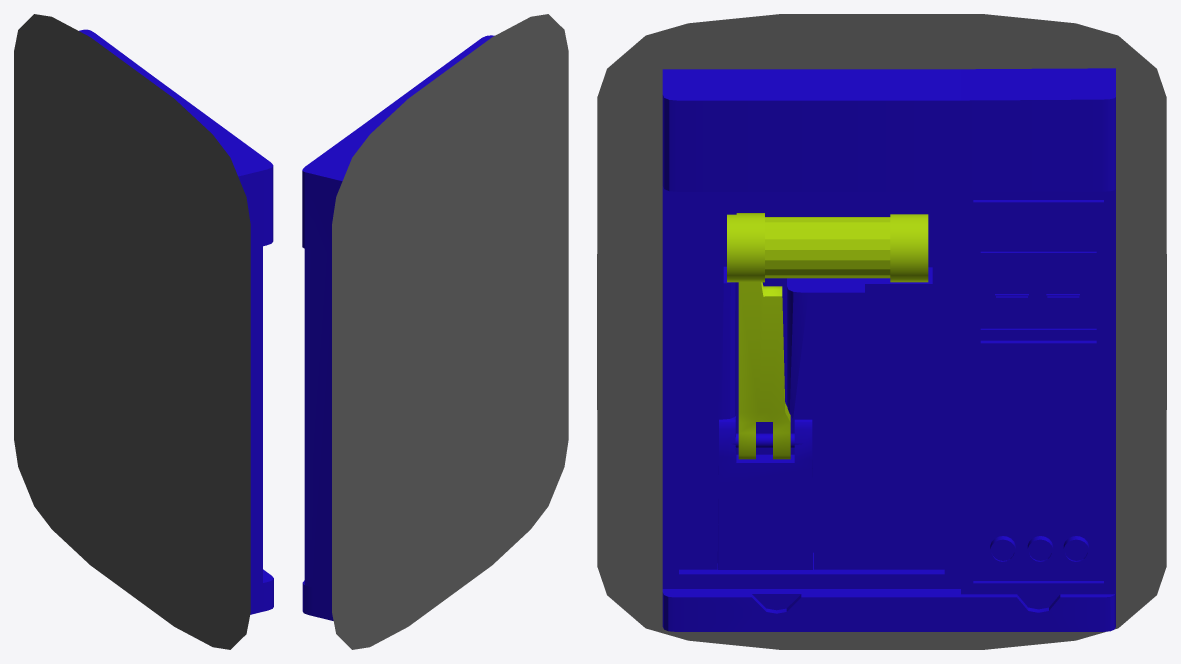
The model's file is ExitVaultLever.fbx.
The picture shows the model from 3 angles, left to right: view 1: azimuth 30°, elevation 25°; view 2: azimuth 150°, elevation 25°; view 3: azimuth 270°, elevation 25°; orthographic projection. The views are drawn at different scales.
Parts seen in each view (by area): view 1: Back, LeverBox; view 2: Back, LeverBox; view 3: LeverBox, Back, Lever.
Part boxes in pixels (x1=…): Back: x1=14, y1=14, x2=250, y2=649; LeverBox: x1=79, y1=29, x2=273, y2=614; Back: x1=332, y1=14, x2=568, y2=649; LeverBox: x1=302, y1=35, x2=494, y2=620; LeverBox: x1=662, y1=68, x2=1115, y2=631; Back: x1=597, y1=14, x2=1166, y2=649; Lever: x1=727, y1=213, x2=928, y2=459.
Size of the model in its own units: 5.3 by 38.88 by 47.89.
